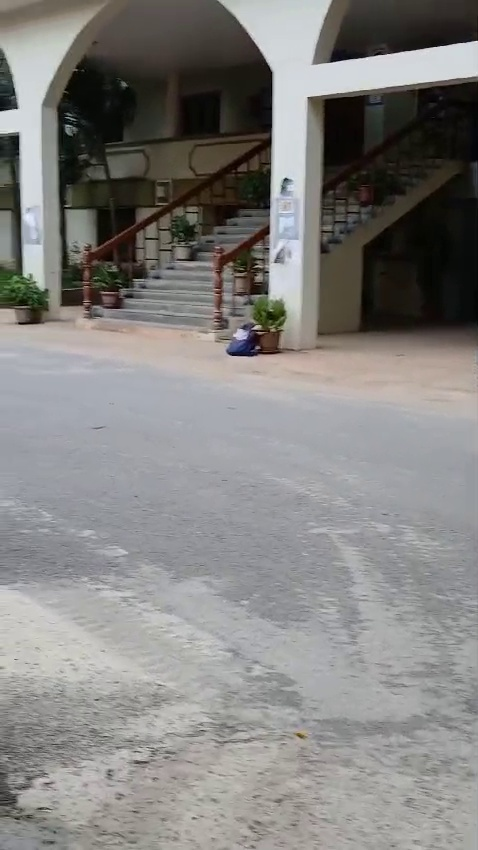bag: (223, 322, 258, 361)
